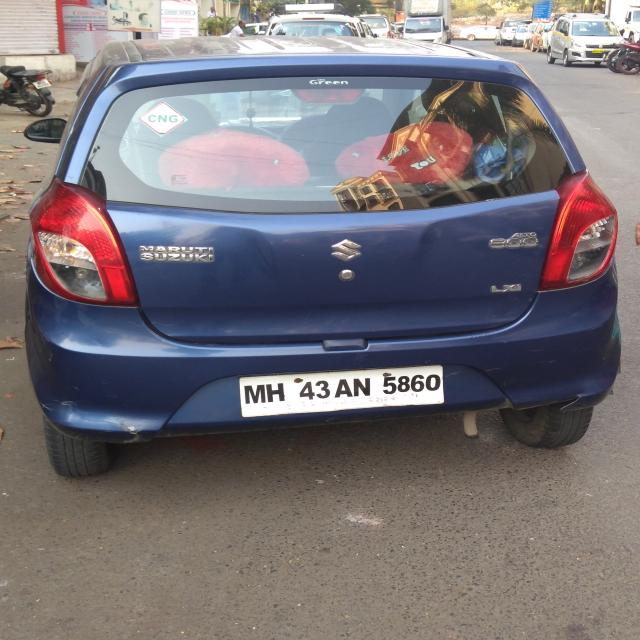Number-Plate: (240, 371, 451, 412)
